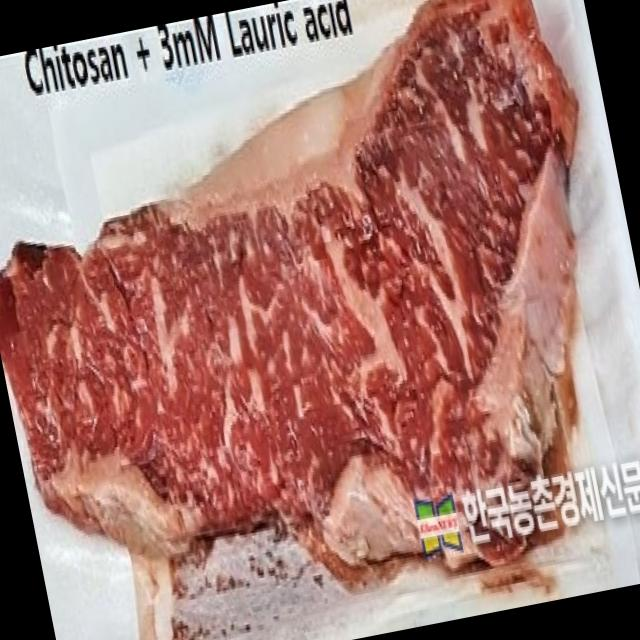pork: (0, 0, 640, 619)
